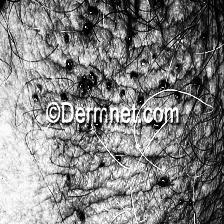Benign Marking or Mole: (160, 60, 203, 104), (80, 65, 102, 97), (156, 175, 176, 194), (26, 84, 47, 102), (81, 18, 95, 36), (73, 209, 88, 224), (62, 55, 74, 73), (130, 64, 140, 82), (118, 87, 128, 99), (60, 88, 68, 102)
